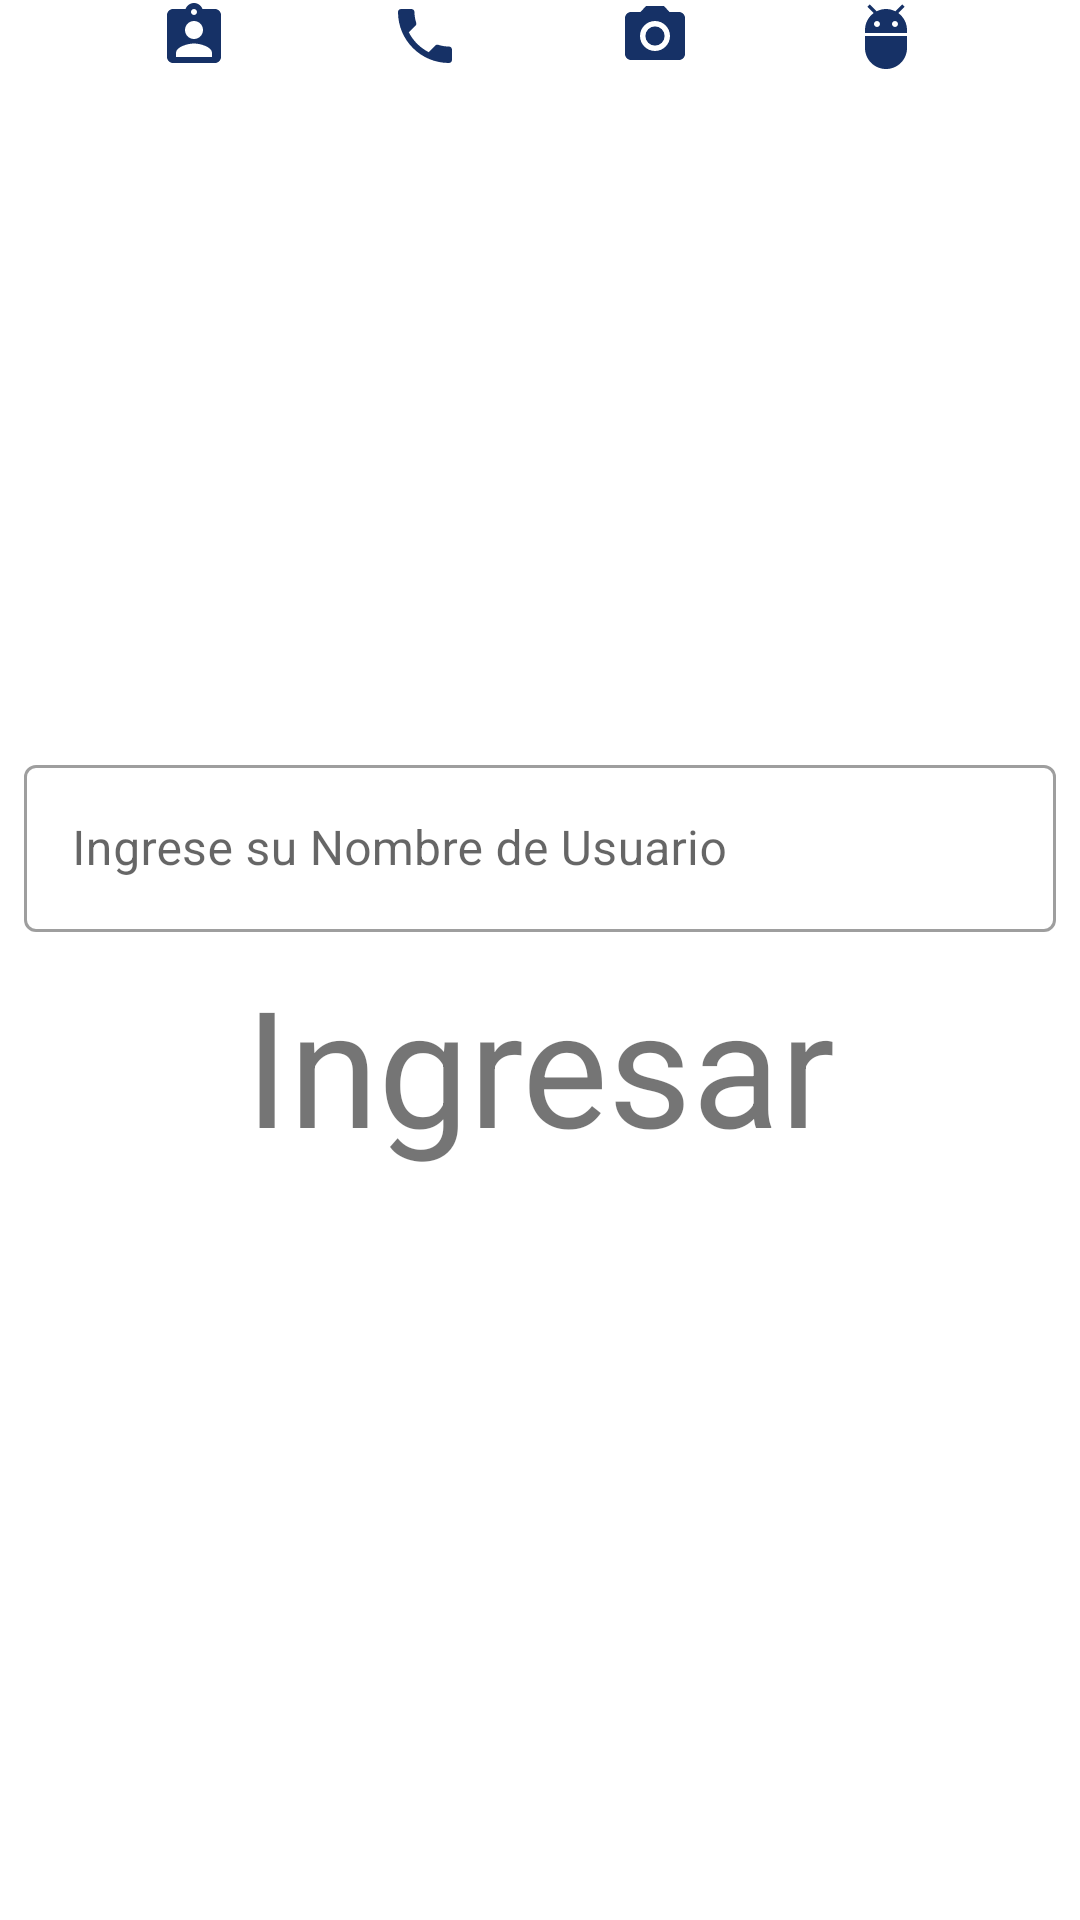

Icons on this 1080×1920 Android screen, each with its box as rect(x1, y1, x2, y2):
phone: rect(398, 9, 452, 63)
photo: rect(625, 6, 685, 60)
